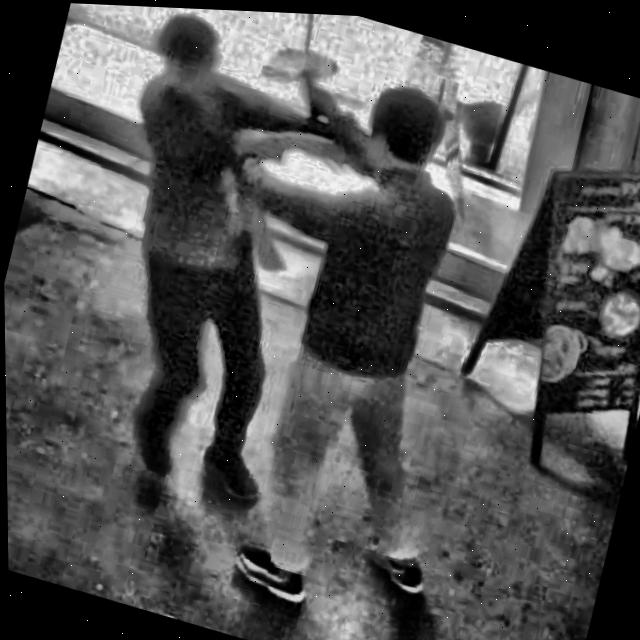robbery: (125, 10, 464, 622)
